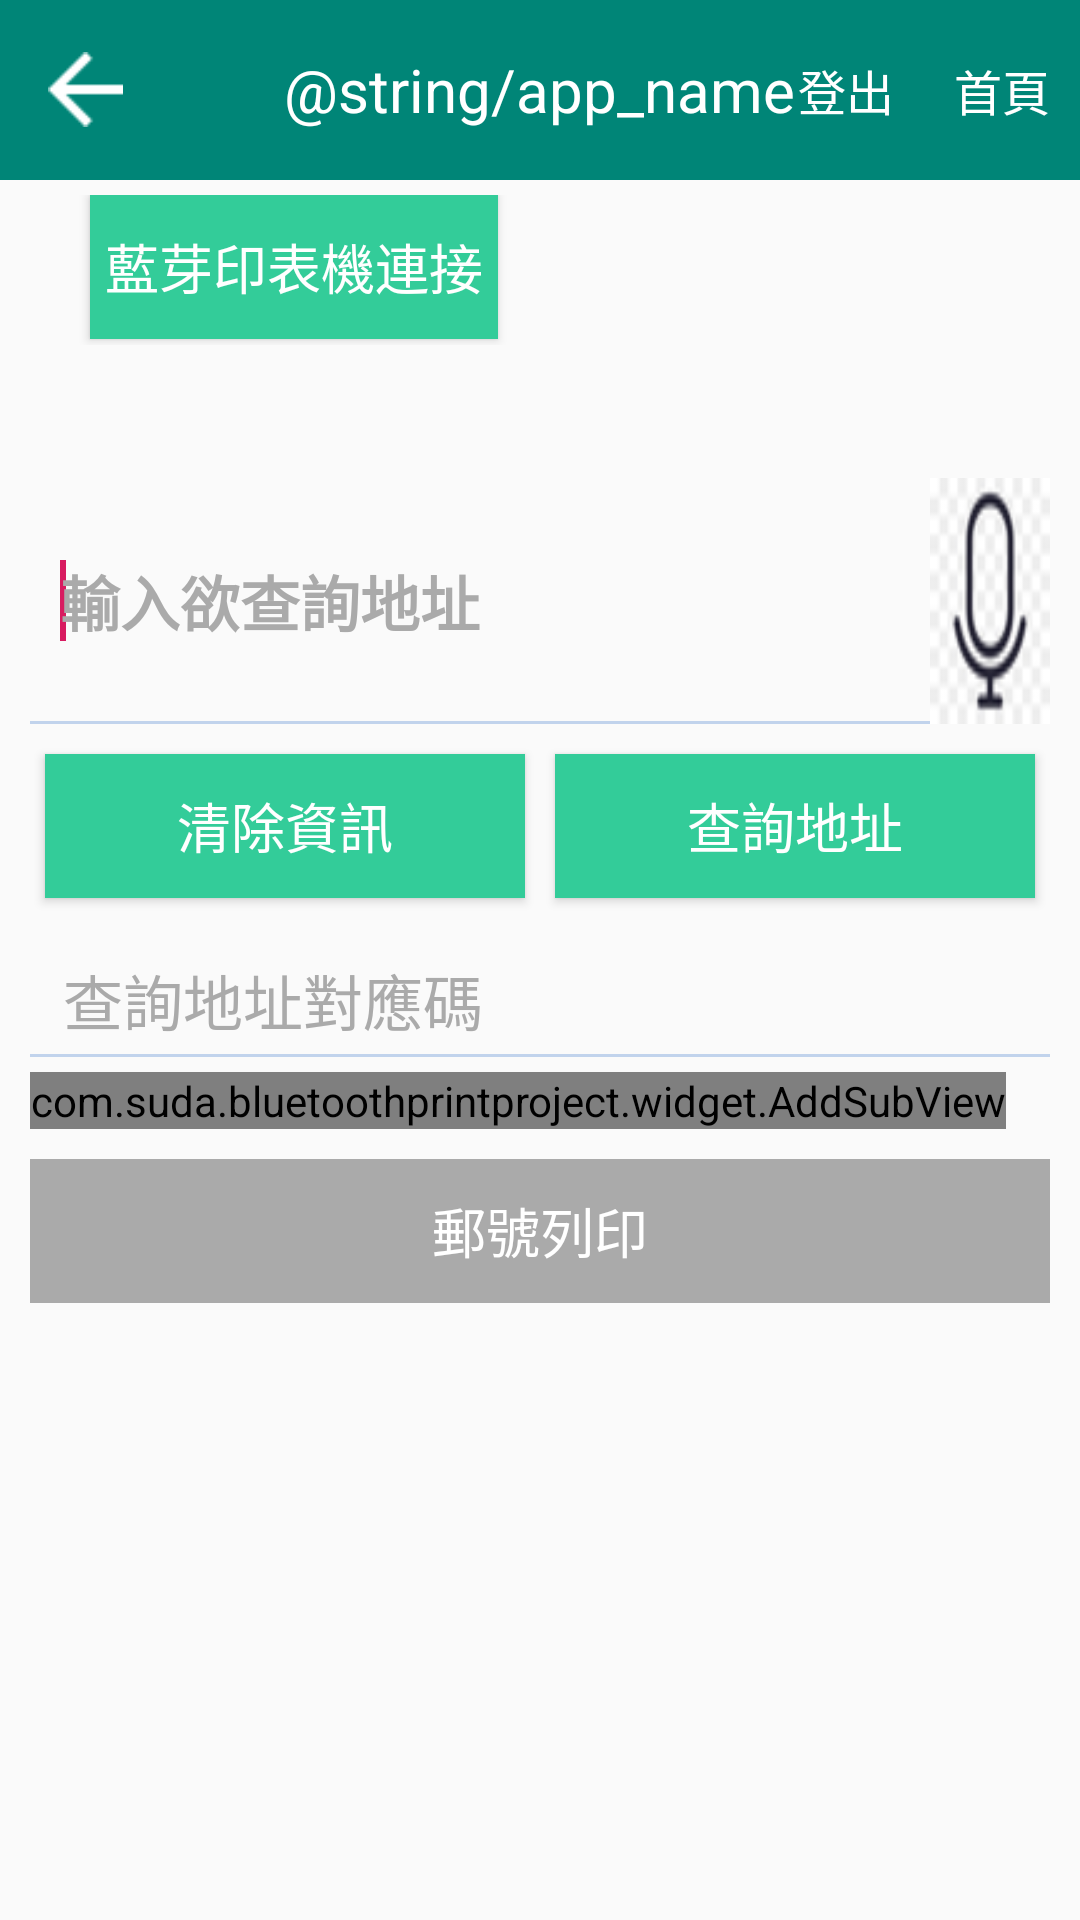

Icon click points for this 1080 x 1920 phone screenshot, format [x,y]:
back: [85,89]
voice: [990,601]
